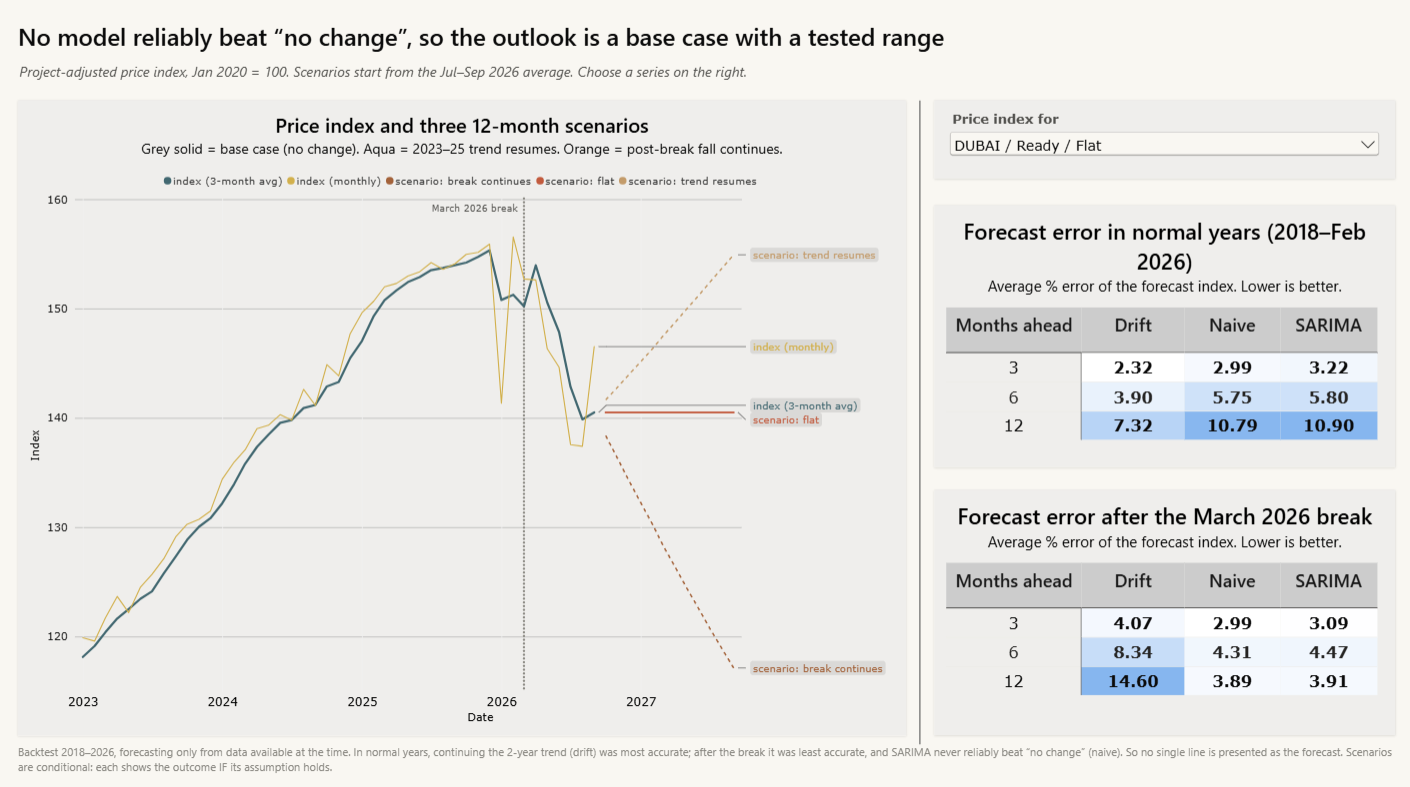

Layout of this report page (visuals, bound fields, positions):
{"tool":"powerbi","page":{"name":"12-month outlook","canvas":[1920,1080],"ordinal":1},"visuals":[{"type":"textbox","box":[40,43.3,1436.7,54],"z":0,"group":"g1"},{"type":"slicer","fields":{"Values":["Series.series_id"]},"box":[1264.5,150,615.7,104.7],"z":0},{"type":"textbox","box":[41.7,97.8,1436.7,43.9],"z":1000,"group":"g1"},{"type":"lineChart","title":"Price index and three 12-month scenarios","fields":{"Category":["Date.Date"],"Series":["index_lines.line"],"Y":["_Measures.Index"]},"box":[40.1,150,1186,849.4],"z":1000},{"type":"pivotTable","title":"Forecast error in normal years (2018–Feb 2026)","fields":{"Columns":["backtest_summary.model"],"Rows":["backtest_summary.horizon_months"],"Values":["Avg(backtest_summary.mape_pct)"]},"box":[1264.5,291.3,615.7,350.6],"z":2000},{"type":"pivotTable","title":"Forecast error after the March 2026 break","fields":{"Columns":["backtest_summary.model"],"Rows":["backtest_summary.horizon_months"],"Values":["Avg(backtest_summary.mape_pct)"]},"box":[1264.5,671.5,615.7,327.9],"z":3000},{"type":"textbox","box":[40,1012,1840,56],"z":4000},{"type":"shape","box":[1226.2,150,38.4,861.6],"z":5000},{"type":"group","id":"g1","title":"Group 1","box":[40,43.3,1438.3,98.3],"z":6000}]}

Visuals, with their boxes in screenshot pixels (x1, y1, x2, y2), scaled from the page's 1920x1080 canvas onto the 1410x787 screenshot:
textbox: BBox(29, 32, 1084, 71)
slicer - Series.series_id: BBox(929, 109, 1381, 186)
textbox: BBox(31, 71, 1086, 103)
"Price index and three 12-month scenarios" lineChart: BBox(29, 109, 900, 728)
"Forecast error in normal years (2018–Feb 2026)" pivotTable: BBox(929, 212, 1381, 468)
"Forecast error after the March 2026 break" pivotTable: BBox(929, 489, 1381, 728)
textbox: BBox(29, 737, 1381, 778)
shape: BBox(900, 109, 929, 737)
"Group 1" group: BBox(29, 32, 1086, 103)
